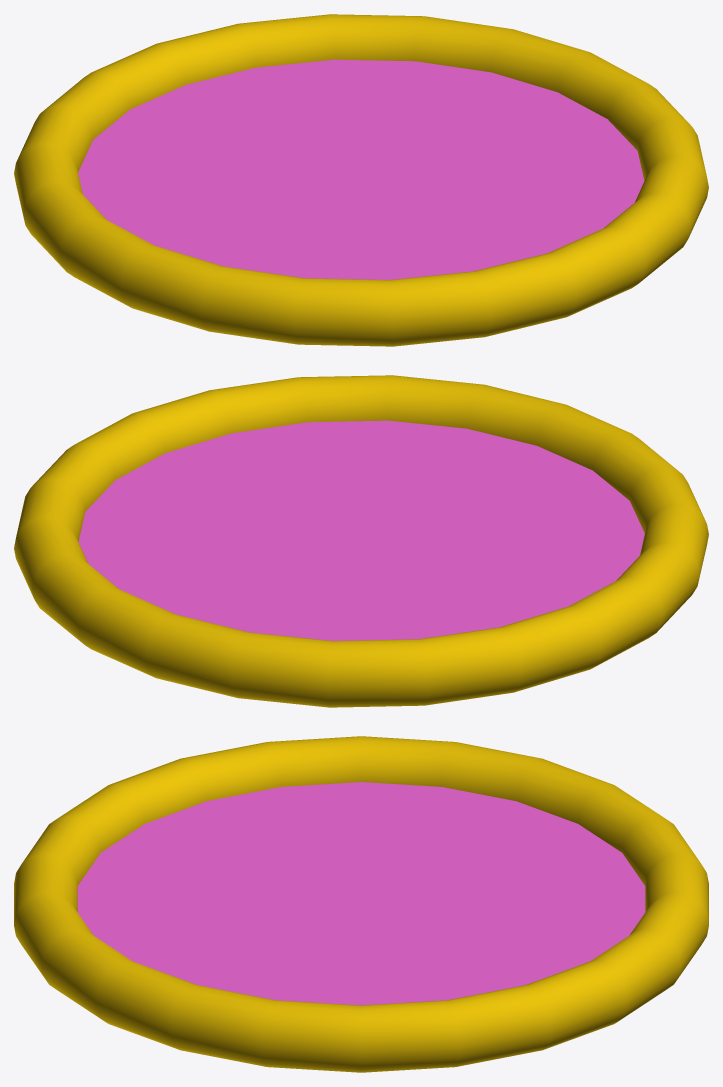
File: GateRound.fbx
3 renders of one model, top to bottom at view 1: azimuth 30°, elevation 25°; view 2: azimuth 150°, elevation 25°; view 3: azimuth 270°, elevation 25°, orthographic.
Visible parts, largest first — view 1: Inside, GateOutside; view 2: Inside, GateOutside; view 3: Inside, GateOutside.
Boxes of the visible parts, left/top/right/bottom form: Inside: left=78, top=59, right=644, bottom=279; GateOutside: left=14, top=14, right=708, bottom=346; Inside: left=78, top=420, right=644, bottom=640; GateOutside: left=14, top=375, right=708, bottom=707; Inside: left=77, top=782, right=645, bottom=1005; GateOutside: left=14, top=736, right=708, bottom=1072.
Size of the model in its own units: 80.21 by 7.68 by 79.41.
